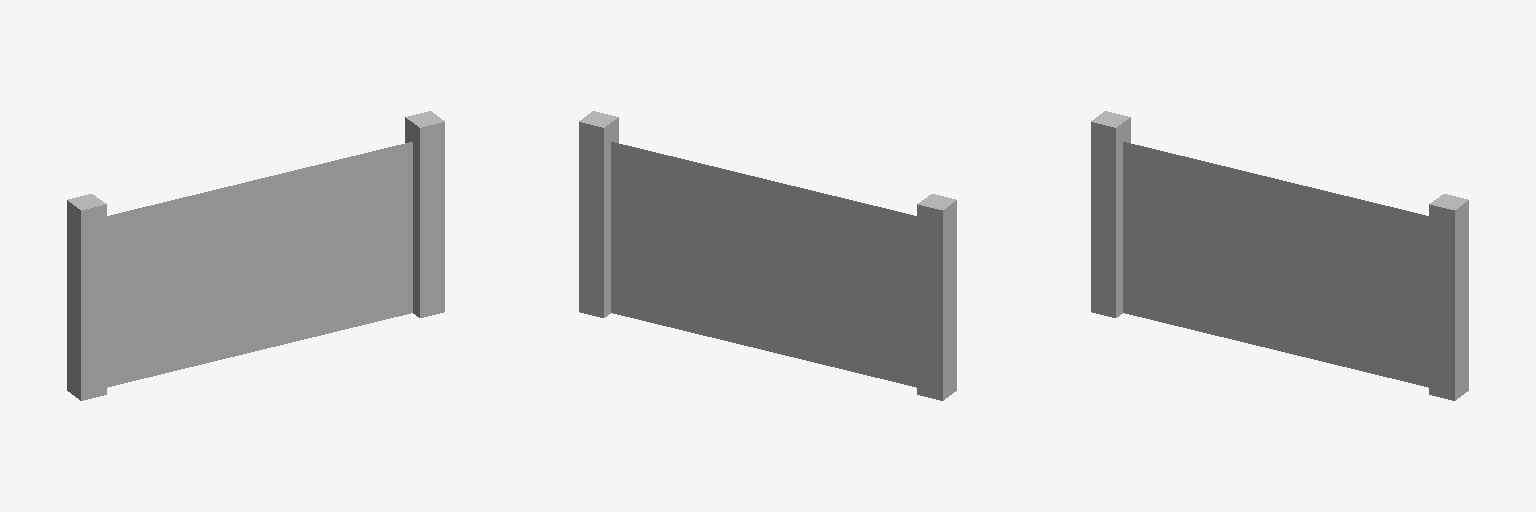
File: wall-fence.obj
3 views of the same model, side by side, from view 1: azimuth 30°, elevation 25°; view 2: azimuth 150°, elevation 25°; view 3: azimuth 330°, elevation 25° (orthographic).
Visible parts, largest first — view 1: wall-fence; view 2: wall-fence; view 3: wall-fence.
Part boxes in pixels (x1,y1,x2,y2): wall-fence: (67,111,444,400); wall-fence: (579,111,956,400); wall-fence: (1091,111,1468,400).
Size of the model in its own units: 1 by 0.5 by 0.07.